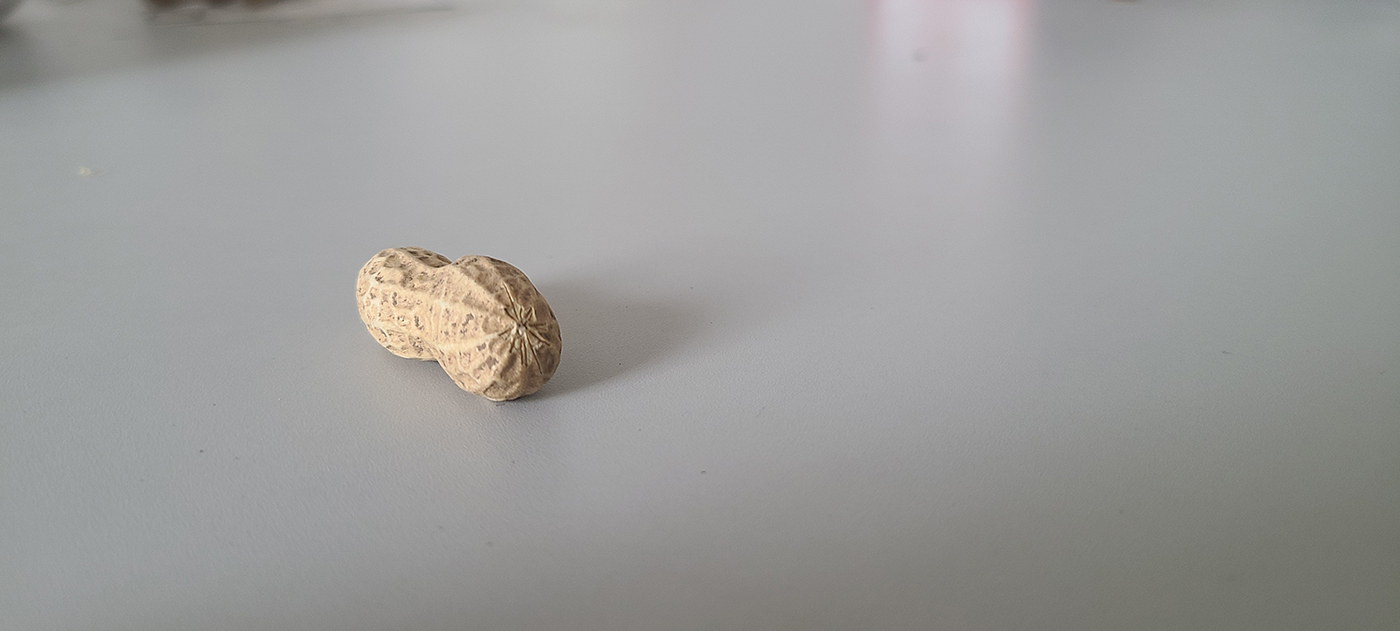h: (354, 244, 563, 402)
